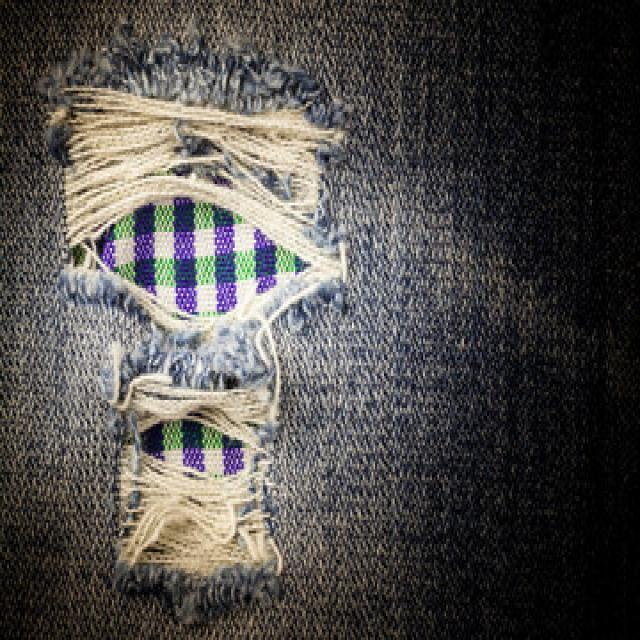Hole: (49, 46, 346, 370), (112, 328, 283, 623)
